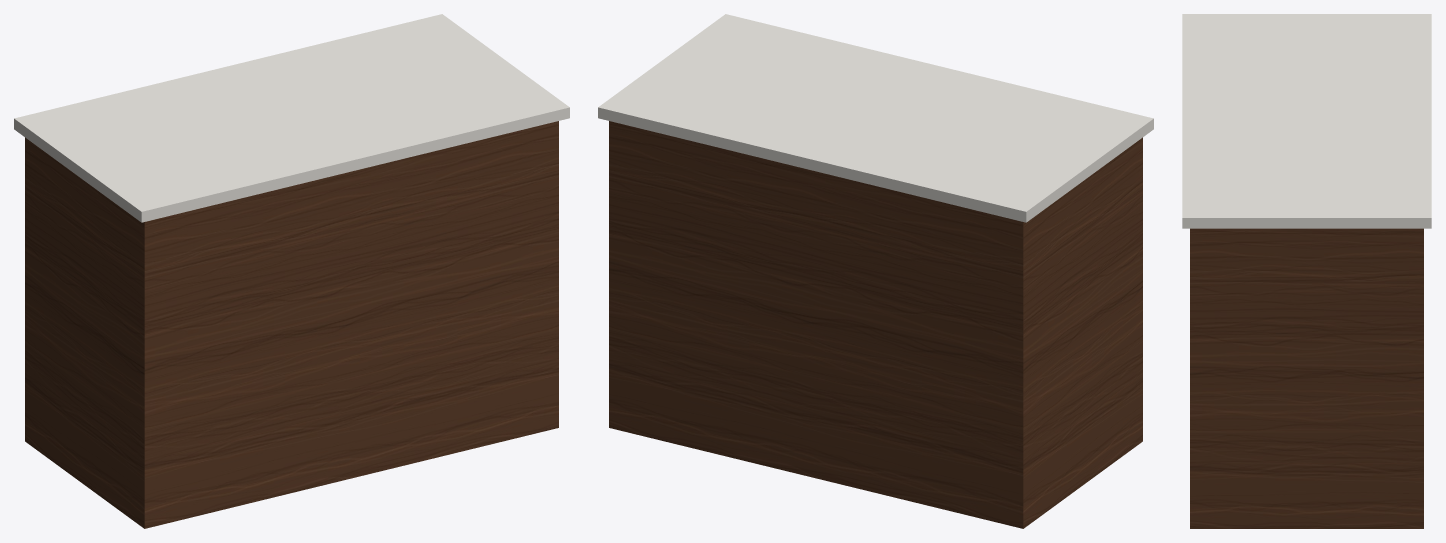
File: Contacts_Display_Table.glb
The picture shows the model from 3 angles, left to right: view 1: azimuth 30°, elevation 25°; view 2: azimuth 150°, elevation 25°; view 3: azimuth 270°, elevation 25°; orthographic projection. The views are drawn at different scales.
Visible parts, largest first — view 1: Contacts_Display_Table_Walnut, Contacts_Display_Table_Stone; view 2: Contacts_Display_Table_Walnut, Contacts_Display_Table_Stone; view 3: Contacts_Display_Table_Walnut, Contacts_Display_Table_Stone.
Boxes of the visible parts, box(x1,y1,x2,y2) form: Contacts_Display_Table_Walnut: box(25, 121, 558, 528); Contacts_Display_Table_Stone: box(14, 14, 569, 222); Contacts_Display_Table_Walnut: box(609, 121, 1142, 528); Contacts_Display_Table_Stone: box(598, 14, 1153, 222); Contacts_Display_Table_Walnut: box(1190, 228, 1423, 528); Contacts_Display_Table_Stone: box(1182, 14, 1431, 228).
Size of the model in its own units: 1.24 by 0.89 by 0.64.
2 materials, 1 textured.
